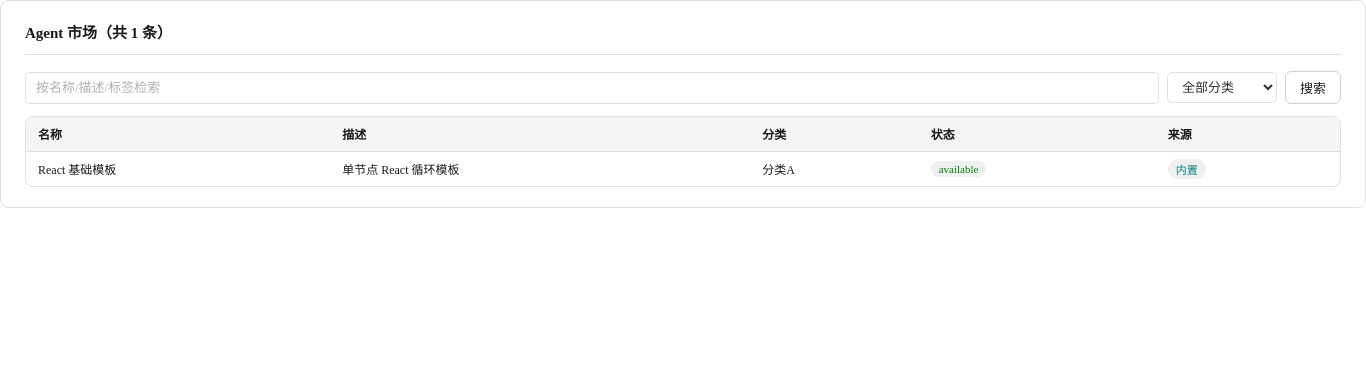
Test: AgentMarketPanel › TC-AMP-04 点击条目 → 详情区渲染
Expected: the table with test id "agent-market-table" is shown, [25,116,1341,187]
Click the row with test id "agent-market-entry-e1" at [77, 170], box [26,152,1340,186]
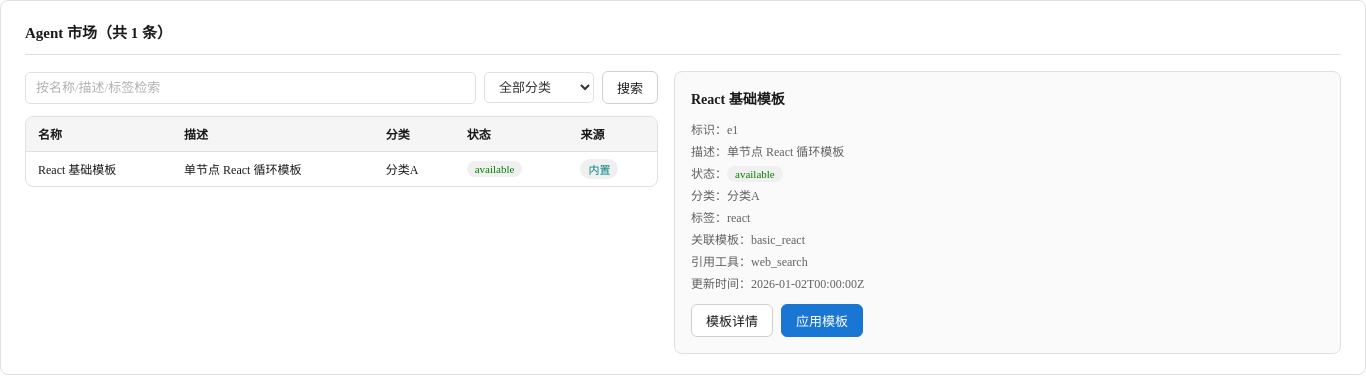
Expected: the element with test id "agent-market-detail" shows "React 基础模板", [691,92,785,107]
Expected: the element with test id "agent-market-detail" shows "e1", [727,123,738,137]
